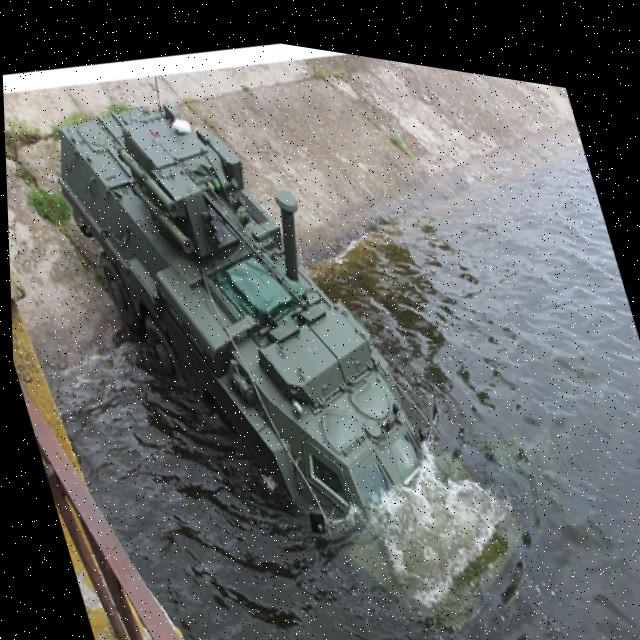MIL_APC: (18, 2, 515, 640)
